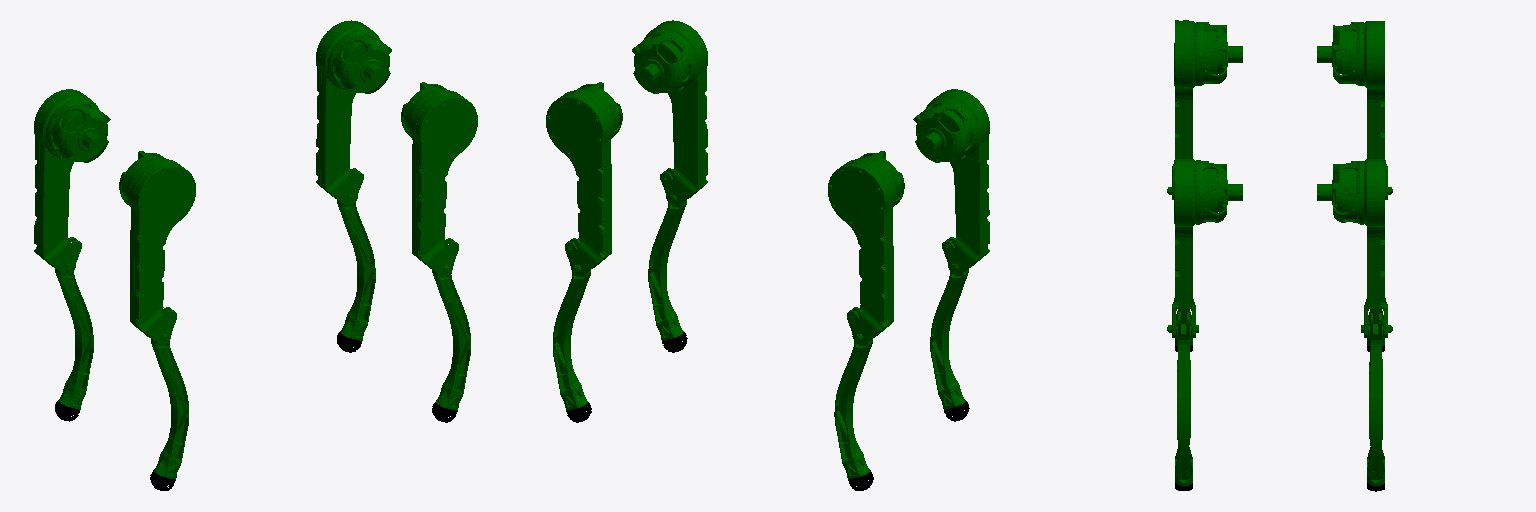
URDF robot description (opy_v05):
<?xml version="1.0" ?>
<!-- =================================================================================== -->
<!-- |    This document was autogenerated by xacro from opy_v05.xacro                  | -->
<!-- |    EDITING THIS FILE BY HAND IS NOT RECOMMENDED                                 | -->
<!-- =================================================================================== -->
<!--
 
This is a xacro file used to describe the mechanical properties of a quadruped.
 
Xacro is an XML language based on URDF. It has the capability of running macros. Such as taking variables and writing functions.
Xacro can be converted to a straightforward URDF file pretty easily. So it is advantageous to use.
 
This file can be used as a template for future changes in the robot.
This file alone does not work since it refers to other Xacro files (quadruped_macros.xacro) and functions inside them. 
 
The document explains each property with comments (green) above them.
 
As a rule of thumb, in vscode turquoise indicates variable name and orange indicates the value of the variable.
Edit orange values only.
 
-->
<robot name="opy_v05">
  <!--
- custom tags. please enter the desired values if available
gear ratios - no units
motorTauMax: maximum torque the motor can aply. Nm
batteryV: Battery Voltage, Volts
motorKT: from motor sheet
motorR: Ohms
rotorRadius: and rotorHeight in meters
RotorMass: in kg
-->
  <custom abadGearRatio="1" batteryV="24" body_height="5" hipGearRatio="1" kneeGearRatio="1" motorKT="0.095" motorR="0.272" motorTauMax="25" rotorHeight="0.0502" rotorMass="0.521" rotorRadius="0.083"/>
  <!-- robot name -->
  <!-- This parameter is only important if use_mesh_file is set to 0. Otherwise this parameter will be assumed to equal 1 anyways.
 
  If you use mesh files, you may still want to use a simple ball as your feet instead of a complex sphere.
  This is beneficial if you are planning on using this URDF in simulation programs.
  For example MuJoCo solves contact geometries much better if you use a sphere instead of a mesh file for feet. 
  If the realistic visuatization of the robot's feet is important for you, use 0.
  To use this URDF in simulation, it is recommended to use 1. -->
  <!-- [kg] -->
  <!--[N] -->
  <!-- _______________________________________________________________________________ -->
  <!-- The below values will be filled for FRONT LEFT - FL - LEG 2 of the robot -->
  <!-- [m] -->
  <!-- [m] -->
  <!-- [m] -->
  <!-- [ixx ixy ixz iyy iyz izz] -->
  <!-- [m] -->
  <!-- [m] -->
  <!-- [ixx ixy ixz iyy iyz izz] -->
  <!-- [m] -->
  <!-- [m] -->
  <!-- [ixx ixy ixz iyy iyz izz] -->
  <!-- [m] -->
  <!-- [m] -->
  <!-- [ixx ixy ixz iyy iyz izz] -->
  <!-- _______________________________________________________________________________ -->
  <!-- directory to file -->
  <!-- [kg] -->
  <!-- _______________________________________________________________________________ -->
  <!-- FILL THE BELOW VALUES IF  -->
  <!-- use_mesh_file = 0  OR  use_simple_inertia = 1 -->
  <!-- [m] -->
  <!-- [m] -->
  <!-- [m] -->
  <!-- [m] -->
  <!-- [m] -->
  <!-- NOT USED ANYMORE; WILL BE DELETED  -->
  <!-- <xacro:property name="abad_x_offset" value="0.07675" />
  <xacro:property name="knee_y_offset" value="0.08024" /> -->
  <!-- ________________________________DONT EDIT BELOW THIS LINE_______________________________________________ -->
  <material name="gray">
    <color rgba="0.5 0.5 0.5 1"/>
  </material>
  <material name="green">
    <color rgba="0 0.4 0 1"/>
  </material>
  <material name="black">
    <color rgba="0 0 0 0.9"/>
  </material>
  <link name="opy_v05/base_link"> </link>
  <joint name="opy_v05/base_joint" type="revolute">
    <origin rpy="0 0 0" xyz="0 0 0"/>
    <parent link="opy_v05/base_link"/>
    <child link="opy_v05/base_link_inertia"/>
  </joint>
  <link name="opy_v05/base_link_inertia">
    <inertial>
      <origin rpy="0 0 0" xyz="0.0 0.0 0.0"/>
      <mass value="14.2"/>
      <!-- The base is symmetrical. -->
      <inertia ixx="0.127732" ixy="-0.00297058" ixz="0.00147725" iyy="0.251312" iyz="0.00112127" izz="0.288919"/>
    </inertial>
    <visual>
      <origin rpy="0 0 0" xyz="0 0 0"/>
      <geometry>
        <mesh filename="package://opy-highlevel/meshes/opy_v05/GOVDE.stl"/>
      </geometry>
      <material name="gray"/>
    </visual>
    <collision>
      <origin rpy="0 0 0" xyz="0 0 0"/>
      <geometry>
        <mesh filename="package://opy-highlevel/meshes/opy_v05/GOVDE.stl"/>
      </geometry>
    </collision>
  </link>
  <joint name="opy_v05/abad_1_joint" type="revolute">
    <limit effort="1e3" lower="-3.141592653589793" upper="3.141592653589793" velocity="1e3"/>
    <dynamics damping="0.03" friction="0.05"/>
    <!-- abad_joint_origin -->
    <origin rpy="0 0 0" xyz="0.2238953 -0.0655252 0"/>
    <axis xyz="1 0 0"/>
    <parent link="opy_v05/base_link"/>
    <child link="opy_v05/abad_1"/>
  </joint>
  <link name="opy_v05/abad_1">
    <inertial>
      <!-- abad_link_origin -->
      <origin rpy="0 0 0" xyz="0.0178557 -0.0014481 0.0001213"/>
      <mass value="1.2834"/>
      <!-- [kg] -->
      <!-- abad_inertia_at_com -->
      <inertia ixx="0.00096607" ixy="-5.54985e-05" ixz="-7.4765e-06" iyy="0.00316857" iyz="-4.522e-07" izz="0.00294342"/>
    </inertial>
    <visual>
      <!-- ${dir_sign[leg-1]*0.785398+0.785398} -->
      <origin rpy="0 0 0" xyz="0.0195 0 0"/>
      <geometry>
        <mesh filename="package://opy-highlevel/meshes/opy_v05/ABDUCTION_1.stl"/>
      </geometry>
      <material name="green"/>
    </visual>
    <collision>
      <origin rpy="-3.14 0.0 0" xyz="0 0 0"/>
      <geometry>
        <mesh filename="package://opy-highlevel/meshes/opy_v05/ABDUCTION.stl"/>
      </geometry>
    </collision>
  </link>
  <joint name="opy_v05/hip_1_joint" type="revolute">
    <limit effort="1e3" lower="-3.141592653589793" upper="3.141592653589793" velocity="1e3"/>
    <dynamics damping="0.03" friction="0.05"/>
    <!-- hip_joint_origin -->
    <origin rpy="0 0 3.14" xyz="0.0644992 -0.025 0"/>
    <axis xyz="0 1 0"/>
    <parent link="opy_v05/abad_1"/>
    <child link="opy_v05/hip_1"/>
  </joint>
  <link name="opy_v05/hip_1">
    <inertial>
      <!-- hip_link_origin -->
      <origin rpy="0 0 0" xyz="0.0052933 0.0512201 -0.0389842"/>
      <mass value="2.3239"/>
      <inertia ixx="0.0196654" ixy="0.000348068" ixz="-0.00130155" iyy="0.0201328" iyz="-0.0025115" izz="0.00482801"/>
    </inertial>
    <visual>
      <origin rpy="0 0 0.0" xyz="0 0 0"/>
      <geometry>
        <mesh filename="package://opy-highlevel/meshes/opy_v05/HIP_R.stl"/>
      </geometry>
      <material name="green"/>
    </visual>
    <collision>
      <origin rpy="0 0 0.0" xyz="0 0 0"/>
      <geometry>
        <mesh filename="package://opy-highlevel/meshes/opy_v05/HIP_R.stl"/>
      </geometry>
    </collision>
  </link>
  <joint name="opy_v05/knee_1_joint" type="revolute">
    <!-- knee_joint_origin -->
    <origin rpy="0 0 0" xyz="0.0 0.07885 -0.27"/>
    <limit effort="1e3" lower="-3.141592653589793" upper="3.141592653589793" velocity="1e3"/>
    <dynamics damping="0.03" friction="0.05"/>
    <axis xyz="0 1 0"/>
    <parent link="opy_v05/hip_1"/>
    <child link="opy_v05/knee_1"/>
  </joint>
  <link name="opy_v05/knee_1">
    <inertial>
      <origin rpy="0 0 0" xyz="-0.0132476 8.24e-05 -0.183019"/>
      <mass value="0.3966"/>
      <inertia ixx="0.00436796" ixy="3.12e-08" ixz="8.37378e-05" iyy="0.00442188" iyz="-2.4768e-06" izz="0.000171289"/>
    </inertial>
    <visual>
      <origin rpy="0 0 0.0" xyz="0 0 0"/>
      <geometry>
        <mesh filename="package://opy-highlevel/meshes/opy_v05/KNEE.stl"/>
      </geometry>
      <material name="green"/>
    </visual>
    <collision>
      <origin rpy="0 0 0.0" xyz="0 0 0"/>
      <geometry>
        <mesh filename="package://opy-highlevel/meshes/opy_v05/KNEE.stl"/>
      </geometry>
    </collision>
  </link>
  <joint name="opy_v05/foot_1_joint" type="fixed">
    <!-- foot_joint_origin -->
    <origin rpy="0 0 0" xyz="0.0 -0.0 -0.2883978"/>
    <parent link="opy_v05/knee_1"/>
    <child link="opy_v05/foot_1"/>
  </joint>
  <link name="opy_v05/foot_1">
    <inertial>
      <!-- foot_link_origin -->
      <origin rpy="0 0 0" xyz="0.0012849 -8.24e-05 -0.002989"/>
      <mass value="0.1737"/>
      <!-- foot_inertia_at_com -->
      <inertia ixx="2.91738e-05" ixy="1.4e-08" ixz="3.1938e-06" iyy="3.41281e-05" iyz="-1.67e-08" izz="3.48311e-05"/>
    </inertial>
    <visual>
      <origin rpy="0 0 0" xyz="0 0 0"/>
      <geometry>
        <mesh filename="package://opy-highlevel/meshes/opy_v05/FOOT.stl"/>
      </geometry>
      <material name="black"/>
    </visual>
    <collision>
      <origin rpy="0 0 0" xyz="0 0 0"/>
      <geometry>
        <sphere radius="0.02"/>
      </geometry>
    </collision>
  </link>
  <joint name="opy_v05/abad_2_joint" type="revolute">
    <limit effort="1e3" lower="-3.141592653589793" upper="3.141592653589793" velocity="1e3"/>
    <dynamics damping="0.03" friction="0.05"/>
    <!-- abad_joint_origin -->
    <origin rpy="0 0 0" xyz="0.2238953 0.0655252 0"/>
    <axis xyz="1 0 0"/>
    <parent link="opy_v05/base_link"/>
    <child link="opy_v05/abad_2"/>
  </joint>
  <link name="opy_v05/abad_2">
    <inertial>
      <!-- abad_link_origin -->
      <origin rpy="0 0 0" xyz="0.0178557 0.0014481 0.0001213"/>
      <mass value="1.2834"/>
      <!-- [kg] -->
      <!-- abad_inertia_at_com -->
      <inertia ixx="0.00096607" ixy="5.54985e-05" ixz="-7.4765e-06" iyy="0.00316857" iyz="4.522e-07" izz="0.00294342"/>
    </inertial>
    <visual>
      <!-- ${dir_sign[leg-1]*0.785398+0.785398} -->
      <origin rpy="0 0 0" xyz="0.0195 0 0"/>
      <geometry>
        <mesh filename="package://opy-highlevel/meshes/opy_v05/ABDUCTION_2.stl"/>
      </geometry>
      <material name="green"/>
    </visual>
    <collision>
      <origin rpy="0.0 0.0 0" xyz="0 0 0"/>
      <geometry>
        <mesh filename="package://opy-highlevel/meshes/opy_v05/ABDUCTION.stl"/>
      </geometry>
    </collision>
  </link>
  <joint name="opy_v05/hip_2_joint" type="revolute">
    <limit effort="1e3" lower="-3.141592653589793" upper="3.141592653589793" velocity="1e3"/>
    <dynamics damping="0.03" friction="0.05"/>
    <!-- hip_joint_origin -->
    <origin rpy="0 0 3.14" xyz="0.0644992 0.025 0"/>
    <axis xyz="0 1 0"/>
    <parent link="opy_v05/abad_2"/>
    <child link="opy_v05/hip_2"/>
  </joint>
  <link name="opy_v05/hip_2">
    <inertial>
      <!-- hip_link_origin -->
      <origin rpy="0 0 0" xyz="0.0052933 -0.0512201 -0.0389842"/>
      <mass value="2.3239"/>
      <inertia ixx="0.0196654" ixy="-0.000348068" ixz="-0.00130155" iyy="0.0201328" iyz="0.0025115" izz="0.00482801"/>
    </inertial>
    <visual>
      <origin rpy="0 0 0.0" xyz="0 0 0"/>
      <geometry>
        <mesh filename="package://opy-highlevel/meshes/opy_v05/HIP_L.stl"/>
      </geometry>
      <material name="green"/>
    </visual>
    <collision>
      <origin rpy="0 0 0.0" xyz="0 0 0"/>
      <geometry>
        <mesh filename="package://opy-highlevel/meshes/opy_v05/HIP_L.stl"/>
      </geometry>
    </collision>
  </link>
  <joint name="opy_v05/knee_2_joint" type="revolute">
    <!-- knee_joint_origin -->
    <origin rpy="0 0 0" xyz="0.0 -0.07885 -0.27"/>
    <limit effort="1e3" lower="-3.141592653589793" upper="3.141592653589793" velocity="1e3"/>
    <dynamics damping="0.03" friction="0.05"/>
    <axis xyz="0 1 0"/>
    <parent link="opy_v05/hip_2"/>
    <child link="opy_v05/knee_2"/>
  </joint>
  <link name="opy_v05/knee_2">
    <inertial>
    <!-- knee_joint_hata yer ve ağırlık düzeltilecek!!!!!!!!! -->
      <origin rpy="0 0 0" xyz="-0.0132476 -8.24e-05 -0.183019"/>
      <mass value="0.3966"/>
      <inertia ixx="0.00436796" ixy="-3.12e-08" ixz="8.37378e-05" iyy="0.00442188" iyz="2.4768e-06" izz="0.000171289"/>
    </inertial>
    <visual>
      <origin rpy="0 0 0.0" xyz="0 0 0"/>
      <geometry>
        <mesh filename="package://opy-highlevel/meshes/opy_v05/KNEE.stl"/>
      </geometry>
      <material name="green"/>
    </visual>
    <collision>
      <origin rpy="0 0 0.0" xyz="0 0 0"/>
      <geometry>
        <mesh filename="package://opy-highlevel/meshes/opy_v05/KNEE.stl"/>
      </geometry>
    </collision>
  </link>
  <joint name="opy_v05/foot_2_joint" type="fixed">
    <!-- foot_joint_origin -->
    <origin rpy="0 0 0" xyz="0.0 0.0 -0.2883978"/>
    <parent link="opy_v05/knee_2"/>
    <child link="opy_v05/foot_2"/>
  </joint>
  <link name="opy_v05/foot_2">
    <inertial>
      <!-- foot_link_origin -->
      <origin rpy="0 0 0" xyz="0.0012849 8.24e-05 -0.002989"/>
      <mass value="0.1737"/>
      <!-- foot_inertia_at_com -->
      <inertia ixx="2.91738e-05" ixy="-1.4e-08" ixz="3.1938e-06" iyy="3.41281e-05" iyz="1.67e-08" izz="3.48311e-05"/>
    </inertial>
    <visual>
      <origin rpy="0 0 0" xyz="0 0 0"/>
      <geometry>
        <mesh filename="package://opy-highlevel/meshes/opy_v05/FOOT.stl"/>
      </geometry>
      <material name="black"/>
    </visual>
    <collision>
      <origin rpy="0 0 0" xyz="0 0 0"/>
      <geometry>
        <sphere radius="0.02"/>
      </geometry>
    </collision>
  </link>
  <joint name="opy_v05/abad_3_joint" type="revolute">
    <limit effort="1e3" lower="-3.141592653589793" upper="3.141592653589793" velocity="1e3"/>
    <dynamics damping="0.03" friction="0.05"/>
    <!-- abad_joint_origin -->
    <origin rpy="0 0 0" xyz="-0.2238953 -0.0655252 0"/>
    <axis xyz="1 0 0"/>
    <parent link="opy_v05/base_link"/>
    <child link="opy_v05/abad_3"/>
  </joint>
  <link name="opy_v05/abad_3">
    <inertial>
      <!-- abad_link_origin -->
      <origin rpy="0 0 0" xyz="-0.0178557 -0.0014481 0.0001213"/>
      <mass value="1.2834"/>
      <!-- [kg] -->
      <!-- abad_inertia_at_com -->
      <inertia ixx="0.00096607" ixy="5.54985e-05" ixz="7.4765e-06" iyy="0.00316857" iyz="-4.522e-07" izz="0.00294342"/>
    </inertial>
    <visual>
      <!-- ${dir_sign[leg-1]*0.785398+0.785398} -->
      <origin rpy="0 0 0" xyz="-0.0195 0 0"/>
      <geometry>
        <mesh filename="package://opy-highlevel/meshes/opy_v05/ABDUCTION_3.stl"/>
      </geometry>
      <material name="green"/>
    </visual>
    <collision>
      <origin rpy="-3.14 -3.14 0" xyz="0 0 0"/>
      <geometry>
        <mesh filename="package://opy-highlevel/meshes/opy_v05/ABDUCTION.stl"/>
      </geometry>
    </collision>
  </link>
  <joint name="opy_v05/hip_3_joint" type="revolute">
    <limit effort="1e3" lower="-3.141592653589793" upper="3.141592653589793" velocity="1e3"/>
    <dynamics damping="0.03" friction="0.05"/>
    <!-- hip_joint_origin -->
    <origin rpy="0 0 3.14" xyz="-0.0644992 -0.025 0"/>
    <axis xyz="0 1 0"/>
    <parent link="opy_v05/abad_3"/>
    <child link="opy_v05/hip_3"/>
  </joint>
  <link name="opy_v05/hip_3">
    <inertial>
      <!-- hip_link_origin -->
      <origin rpy="0 0 0" xyz="0.0052933 0.0512201 -0.0389842"/>
      <mass value="2.3239"/>
      <inertia ixx="0.0196654" ixy="-0.000348068" ixz="0.00130155" iyy="0.0201328" iyz="-0.0025115" izz="0.00482801"/>
    </inertial>
    <visual>
      <origin rpy="0 0 0.0" xyz="0 0 0"/>
      <geometry>
        <mesh filename="package://opy-highlevel/meshes/opy_v05/HIP_R.stl"/>
      </geometry>
      <material name="green"/>
    </visual>
    <collision>
      <origin rpy="0 0 0.0" xyz="0 0 0"/>
      <geometry>
        <mesh filename="package://opy-highlevel/meshes/opy_v05/HIP_R.stl"/>
      </geometry>
    </collision>
  </link>
  <joint name="opy_v05/knee_3_joint" type="revolute">
    <!-- knee_joint_origin -->
    <origin rpy="0 0 0" xyz="0.0 0.07885 -0.27"/>
    <limit effort="1e3" lower="-3.141592653589793" upper="3.141592653589793" velocity="1e3"/>
    <dynamics damping="0.03" friction="0.05"/>
    <axis xyz="0 1 0"/>
    <parent link="opy_v05/hip_3"/>
    <child link="opy_v05/knee_3"/>
  </joint>
  <link name="opy_v05/knee_3">
    <inertial>
      <origin rpy="0 0 0" xyz="-0.0132476 8.24e-05 -0.183019"/>
      <mass value="0.3966"/>
      <inertia ixx="0.00436796" ixy="-3.12e-08" ixz="-8.37378e-05" iyy="0.00442188" iyz="-2.4768e-06" izz="0.000171289"/>
    </inertial>
    <visual>
      <origin rpy="0 0 0.0" xyz="0 0 0"/>
      <geometry>
        <mesh filename="package://opy-highlevel/meshes/opy_v05/KNEE.stl"/>
      </geometry>
      <material name="green"/>
    </visual>
    <collision>
      <origin rpy="0 0 0.0" xyz="0 0 0"/>
      <geometry>
        <mesh filename="package://opy-highlevel/meshes/opy_v05/KNEE.stl"/>
      </geometry>
    </collision>
  </link>
  <joint name="opy_v05/foot_3_joint" type="fixed">
    <!-- foot_joint_origin -->
    <origin rpy="0 0 0" xyz="0.0 -0.0 -0.2883978"/>
    <parent link="opy_v05/knee_3"/>
    <child link="opy_v05/foot_3"/>
  </joint>
  <link name="opy_v05/foot_3">
    <inertial>
      <!-- foot_link_origin -->
      <origin rpy="0 0 0" xyz="0.0012849 -8.24e-05 -0.002989"/>
      <mass value="0.1737"/>
      <!-- foot_inertia_at_com -->
      <inertia ixx="2.91738e-05" ixy="-1.4e-08" ixz="-3.1938e-06" iyy="3.41281e-05" iyz="-1.67e-08" izz="3.48311e-05"/>
    </inertial>
    <visual>
      <origin rpy="0 0 0" xyz="0 0 0"/>
      <geometry>
        <mesh filename="package://opy-highlevel/meshes/opy_v05/FOOT.stl"/>
      </geometry>
      <material name="black"/>
    </visual>
    <collision>
      <origin rpy="0 0 0" xyz="0 0 0"/>
      <geometry>
        <sphere radius="0.02"/>
      </geometry>
    </collision>
  </link>
  <joint name="opy_v05/abad_4_joint" type="revolute">
    <limit effort="1e3" lower="-3.141592653589793" upper="3.141592653589793" velocity="1e3"/>
    <dynamics damping="0.03" friction="0.05"/>
    <!-- abad_joint_origin -->
    <origin rpy="0 0 0" xyz="-0.2238953 0.0655252 0"/>
    <axis xyz="1 0 0"/>
    <parent link="opy_v05/base_link"/>
    <child link="opy_v05/abad_4"/>
  </joint>
  <link name="opy_v05/abad_4">
    <inertial>
      <!-- abad_link_origin -->
      <origin rpy="0 0 0" xyz="-0.0178557 0.0014481 0.0001213"/>
      <mass value="1.2834"/>
      <!-- [kg] -->
      <!-- abad_inertia_at_com -->
      <inertia ixx="0.00096607" ixy="-5.54985e-05" ixz="7.4765e-06" iyy="0.00316857" iyz="4.522e-07" izz="0.00294342"/>
    </inertial>
    <visual>
      <!-- ${dir_sign[leg-1]*0.785398+0.785398} -->
      <origin rpy="0 0 0" xyz="-0.0195 0 0"/>
      <geometry>
        <mesh filename="package://opy-highlevel/meshes/opy_v05/ABDUCTION_4.stl"/>
      </geometry>
      <material name="green"/>
    </visual>
    <collision>
      <origin rpy="0.0 -3.14 0" xyz="0 0 0"/>
      <geometry>
        <mesh filename="package://opy-highlevel/meshes/opy_v05/ABDUCTION.stl"/>
      </geometry>
    </collision>
  </link>
  <joint name="opy_v05/hip_4_joint" type="revolute">
    <limit effort="1e3" lower="-3.141592653589793" upper="3.141592653589793" velocity="1e3"/>
    <dynamics damping="0.03" friction="0.05"/>
    <!-- hip_joint_origin -->
    <origin rpy="0 0 3.14" xyz="-0.0644992 0.025 0"/>
    <axis xyz="0 1 0"/>
    <parent link="opy_v05/abad_4"/>
    <child link="opy_v05/hip_4"/>
  </joint>
  <link name="opy_v05/hip_4">
    <inertial>
      <!-- hip_link_origin -->
      <origin rpy="0 0 0" xyz="0.0052933 -0.0512201 -0.0389842"/>
      <mass value="2.3239"/>
      <inertia ixx="0.0196654" ixy="0.000348068" ixz="0.00130155" iyy="0.0201328" iyz="0.0025115" izz="0.00482801"/>
    </inertial>
    <visual>
      <origin rpy="0 0 0.0" xyz="0 0 0"/>
      <geometry>
        <mesh filename="package://opy-highlevel/meshes/opy_v05/HIP_L.stl"/>
      </geometry>
      <material name="green"/>
    </visual>
    <collision>
      <origin rpy="0 0 0.0" xyz="0 0 0"/>
      <geometry>
        <mesh filename="package://opy-highlevel/meshes/opy_v05/HIP_L.stl"/>
      </geometry>
    </collision>
  </link>
  <joint name="opy_v05/knee_4_joint" type="revolute">
    <!-- knee_joint_origin -->
    <origin rpy="0 0 0" xyz="0.0 -0.07885 -0.27"/>
    <limit effort="1e3" lower="-3.141592653589793" upper="3.141592653589793" velocity="1e3"/>
    <dynamics damping="0.03" friction="0.05"/>
    <axis xyz="0 1 0"/>
    <parent link="opy_v05/hip_4"/>
    <child link="opy_v05/knee_4"/>
  </joint>
  <link name="opy_v05/knee_4">
    <inertial>
      <origin rpy="0 0 0" xyz="-0.0132476 -8.24e-05 -0.183019"/>
      <mass value="0.3966"/>
      <inertia ixx="0.00436796" ixy="3.12e-08" ixz="-8.37378e-05" iyy="0.00442188" iyz="2.4768e-06" izz="0.000171289"/>
    </inertial>
    <visual>
      <origin rpy="0 0 0.0" xyz="0 0 0"/>
      <geometry>
        <mesh filename="package://opy-highlevel/meshes/opy_v05/KNEE.stl"/>
      </geometry>
      <material name="green"/>
    </visual>
    <collision>
      <origin rpy="0 0 0.0" xyz="0 0 0"/>
      <geometry>
        <mesh filename="package://opy-highlevel/meshes/opy_v05/KNEE.stl"/>
      </geometry>
    </collision>
  </link>
  <joint name="opy_v05/foot_4_joint" type="fixed">
    <!-- foot_joint_origin -->
    <origin rpy="0 0 0" xyz="0.0 0.0 -0.2883978"/>
    <parent link="opy_v05/knee_4"/>
    <child link="opy_v05/foot_4"/>
  </joint>
  <link name="opy_v05/foot_4">
    <inertial>
      <!-- foot_link_origin -->
      <origin rpy="0 0 0" xyz="0.0012849 8.24e-05 -0.002989"/>
      <mass value="0.1737"/>
      <!-- foot_inertia_at_com -->
      <inertia ixx="2.91738e-05" ixy="1.4e-08" ixz="-3.1938e-06" iyy="3.41281e-05" iyz="1.67e-08" izz="3.48311e-05"/>
    </inertial>
    <visual>
      <origin rpy="0 0 0" xyz="0 0 0"/>
      <geometry>
        <mesh filename="package://opy-highlevel/meshes/opy_v05/FOOT.stl"/>
      </geometry>
      <material name="black"/>
    </visual>
    <collision>
      <origin rpy="0 0 0" xyz="0 0 0"/>
      <geometry>
        <sphere radius="0.02"/>
      </geometry>
    </collision>
  </link>
</robot>

--- Facts derived from the render (not from the file) ---
Views: 3 orthographic renders of the robot side by side, from view 1: azimuth 30°, elevation 25°; view 2: azimuth 150°, elevation 25°; view 3: azimuth 270°, elevation 25°.
Robot: opy_v05 — 18 links, 17 joints (13 revolute, 4 fixed); root link opy_v05/base_link; default pose: all joints at 0.
Links seen in each view (by area): view 1: opy_v05/hip_1, opy_v05/hip_3, opy_v05/hip_4, opy_v05/hip_2, opy_v05/knee_2, opy_v05/knee_4, opy_v05/knee_1, opy_v05/knee_3; view 2: opy_v05/hip_2, opy_v05/hip_4, opy_v05/hip_1, opy_v05/hip_3, opy_v05/knee_3, opy_v05/knee_4, opy_v05/knee_1, opy_v05/knee_2; view 3: opy_v05/hip_1, opy_v05/hip_2, opy_v05/hip_3, opy_v05/hip_4, opy_v05/knee_1, opy_v05/knee_2.
Link boxes in pixels (x1,y1,x2,y2): opy_v05/hip_1: (401,82,477,276); opy_v05/hip_3: (119,151,195,344); opy_v05/hip_4: (34,89,110,274); opy_v05/hip_2: (316,20,391,206); opy_v05/knee_2: (337,168,375,340); opy_v05/knee_4: (55,237,93,409); opy_v05/knee_1: (432,238,470,410); opy_v05/knee_3: (151,307,188,479); opy_v05/hip_2: (546,82,622,276); opy_v05/hip_4: (828,151,904,344); opy_v05/hip_1: (632,20,707,206); opy_v05/hip_3: (913,89,989,274); opy_v05/knee_3: (930,237,968,409); opy_v05/knee_4: (834,307,872,479); opy_v05/knee_1: (648,168,686,340); opy_v05/knee_2: (553,238,590,410); opy_v05/hip_1: (1167,159,1242,337); opy_v05/hip_2: (1317,159,1392,337); opy_v05/hip_3: (1167,20,1242,199); opy_v05/hip_4: (1317,21,1392,199); opy_v05/knee_1: (1175,312,1192,485); opy_v05/knee_2: (1367,313,1384,485).
Bounding box of the posed robot: 0.696 × 0.3978 × 0.6388 m (x, y, z).
12 mesh visuals loaded from 9 distinct referenced files (4 binary STL); not drawn: 5 (reference not matched to a file when rendering).
